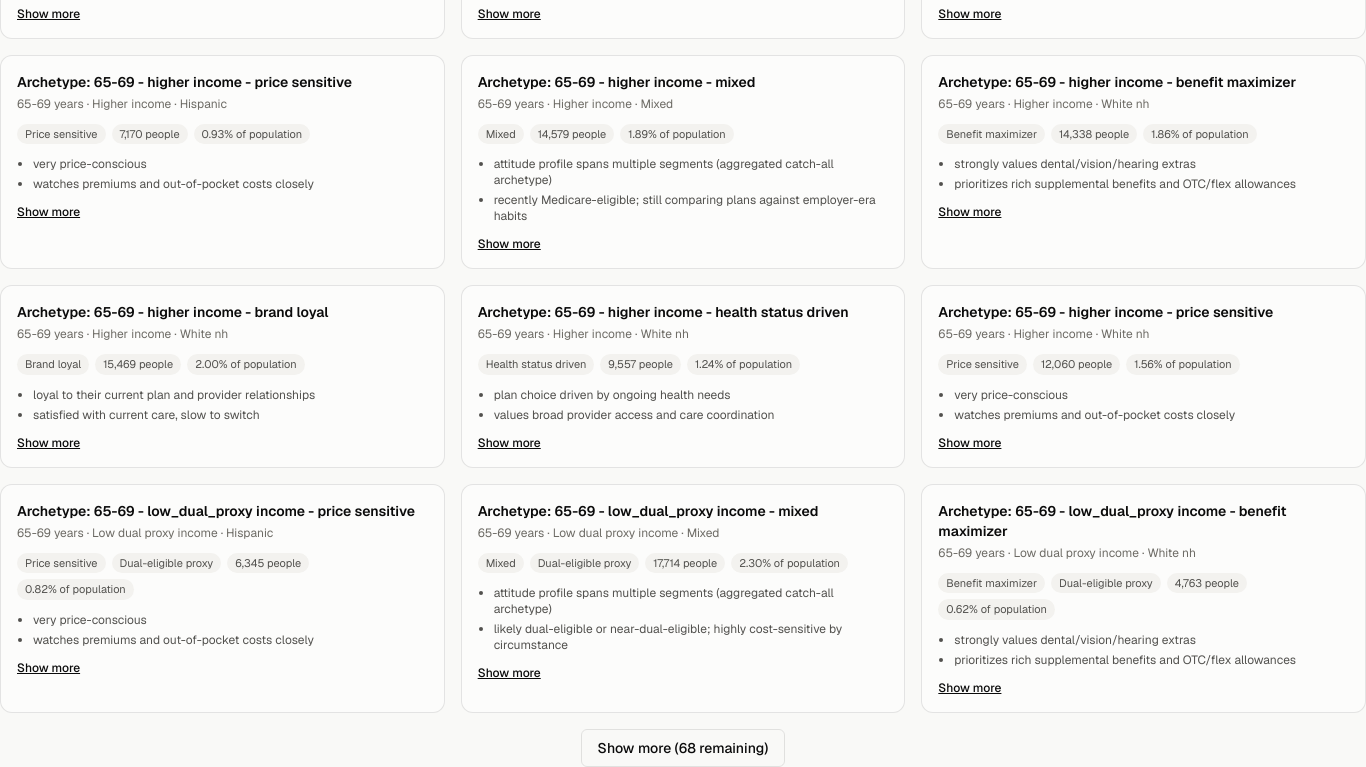
Test: PersonaCards -- personas.json unavailable (real, committed degraded state) › paginates via 'Show more' rather than rendering all 80 cards at once
The width and height of the screenshot is (1366, 767).
(page scrolled)
Click the button "Show more (68 remaining)": (683, 748) [581,728,785,766]
(page scrolled)
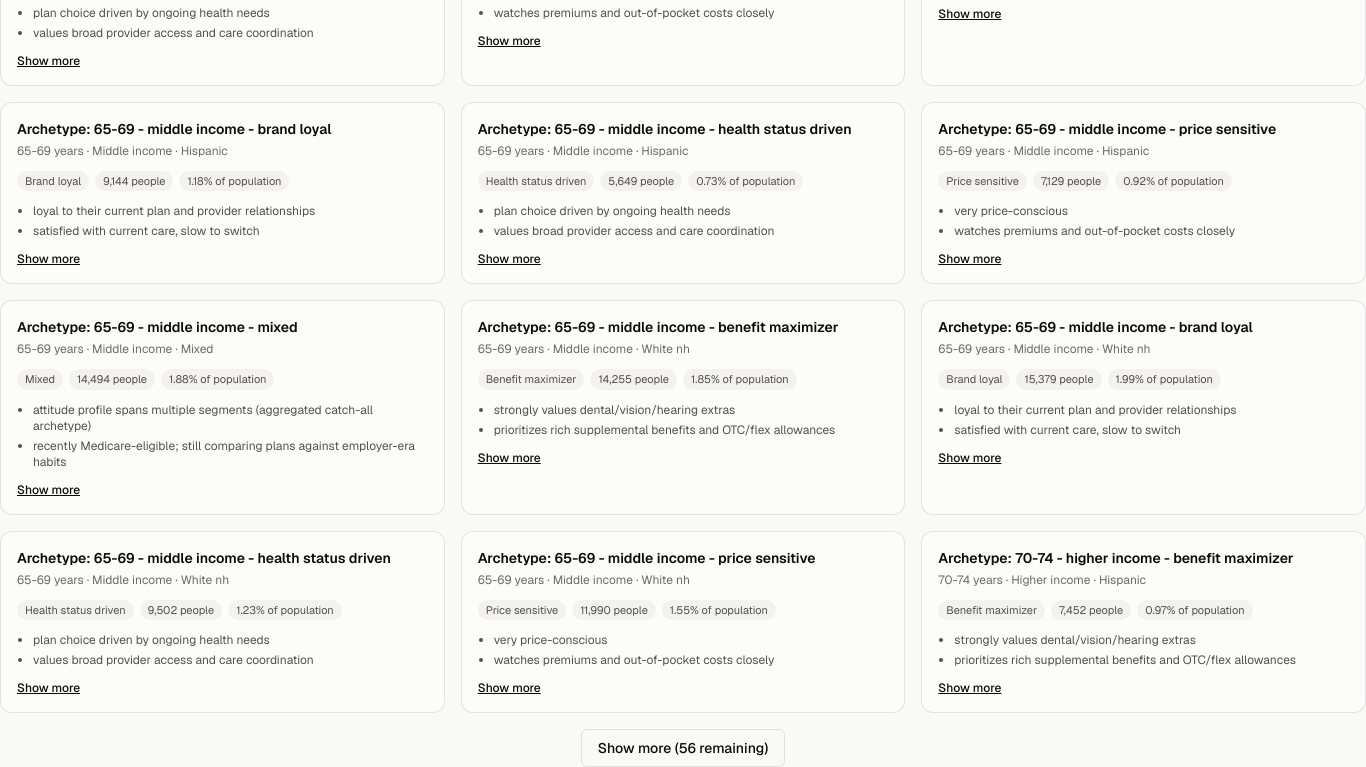
Expected: the button "Show more (56 remaining)" is shown, [581,729,785,766]
